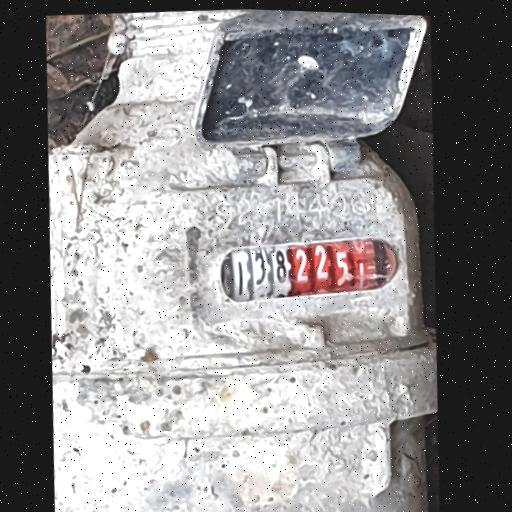1: (346, 237, 380, 292), (222, 248, 255, 304)
2: (286, 244, 316, 298), (307, 242, 337, 295)
3: (246, 246, 276, 301)
5: (327, 240, 357, 293)
8: (266, 245, 294, 299)
border_water_meter_number: (215, 228, 404, 311)
